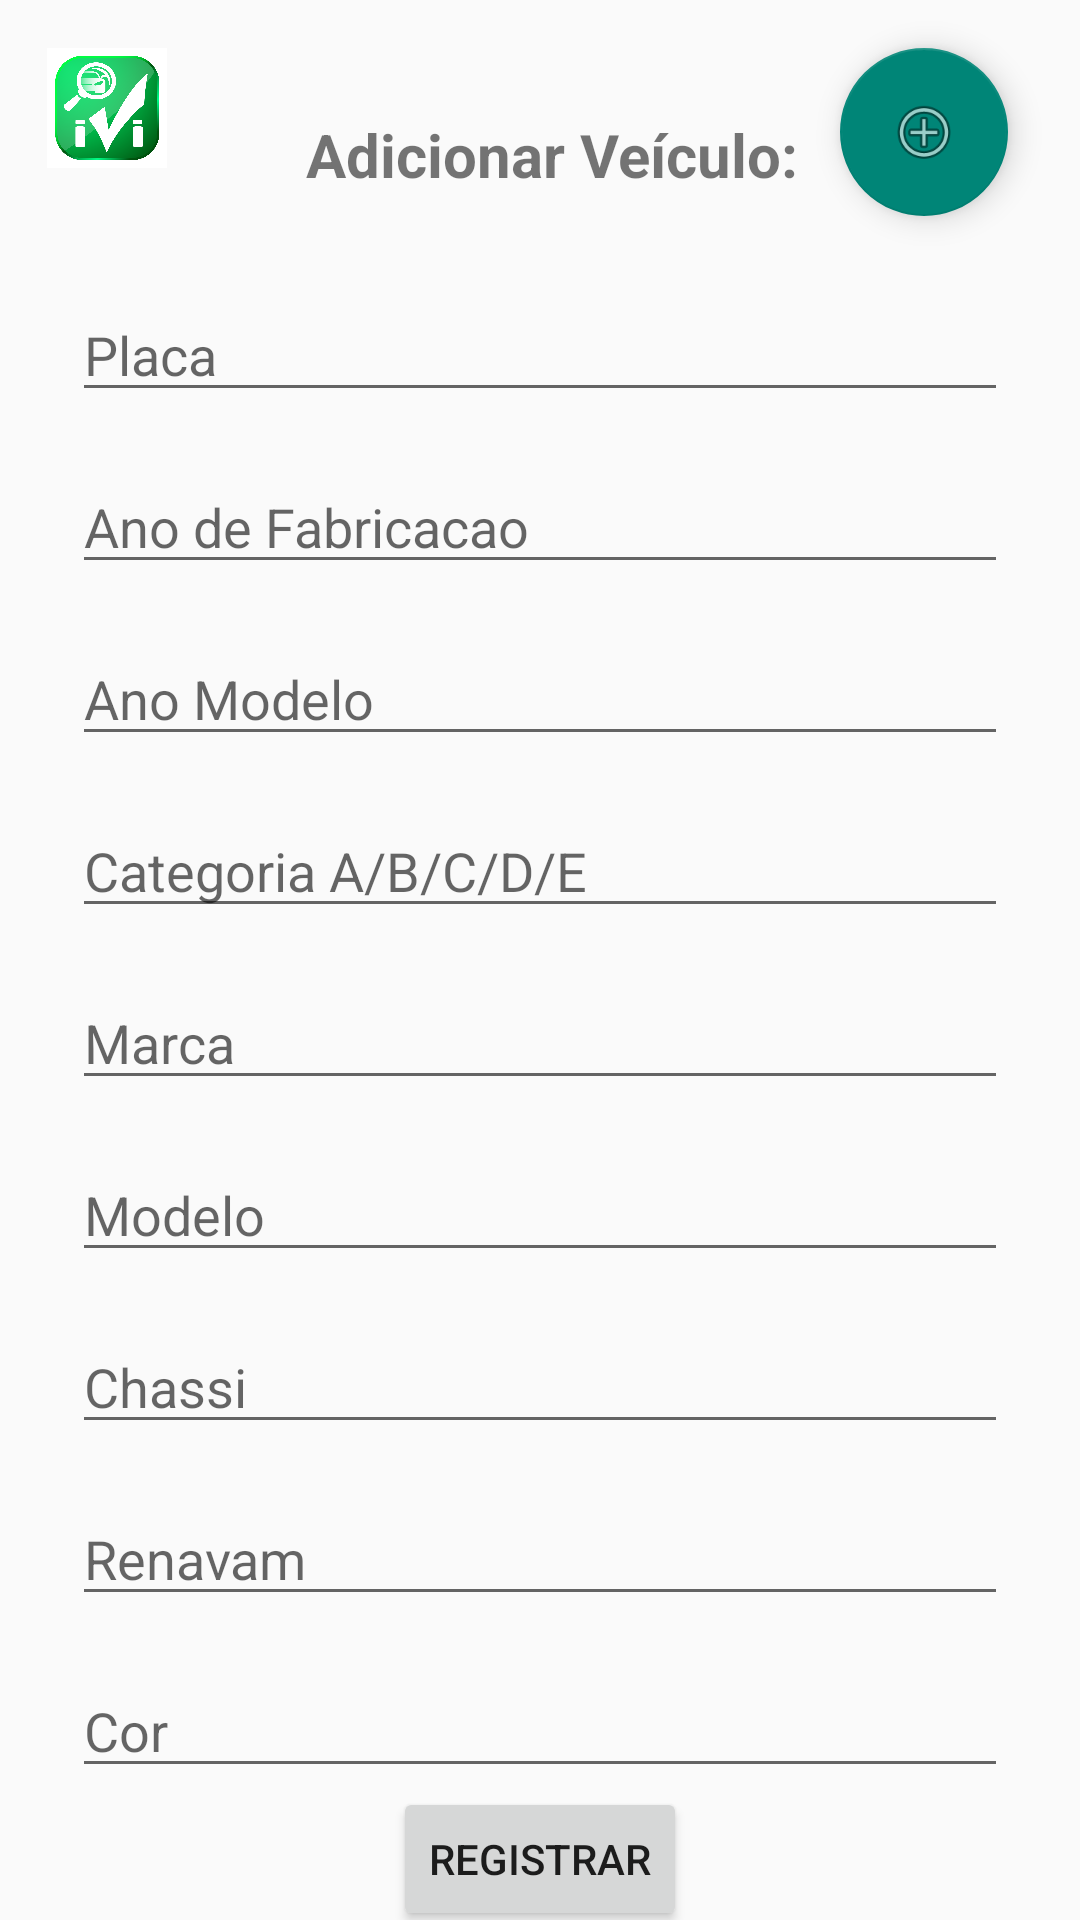

Where to tap for icons on this 1080×1920 app screen, as [x,y]:
add: [924,132]
